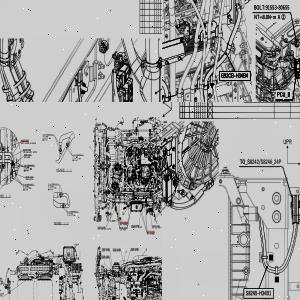PartNumber: (220, 73, 248, 79), (266, 4, 290, 11), (245, 290, 271, 296), (25, 176, 34, 178), (102, 248, 110, 250), (102, 255, 110, 257), (112, 248, 120, 250), (147, 231, 155, 233), (152, 225, 160, 227), (21, 140, 29, 142), (23, 149, 31, 151), (120, 222, 128, 224), (98, 226, 105, 228), (120, 227, 127, 229), (24, 154, 31, 156), (130, 248, 138, 249), (131, 225, 139, 226)
